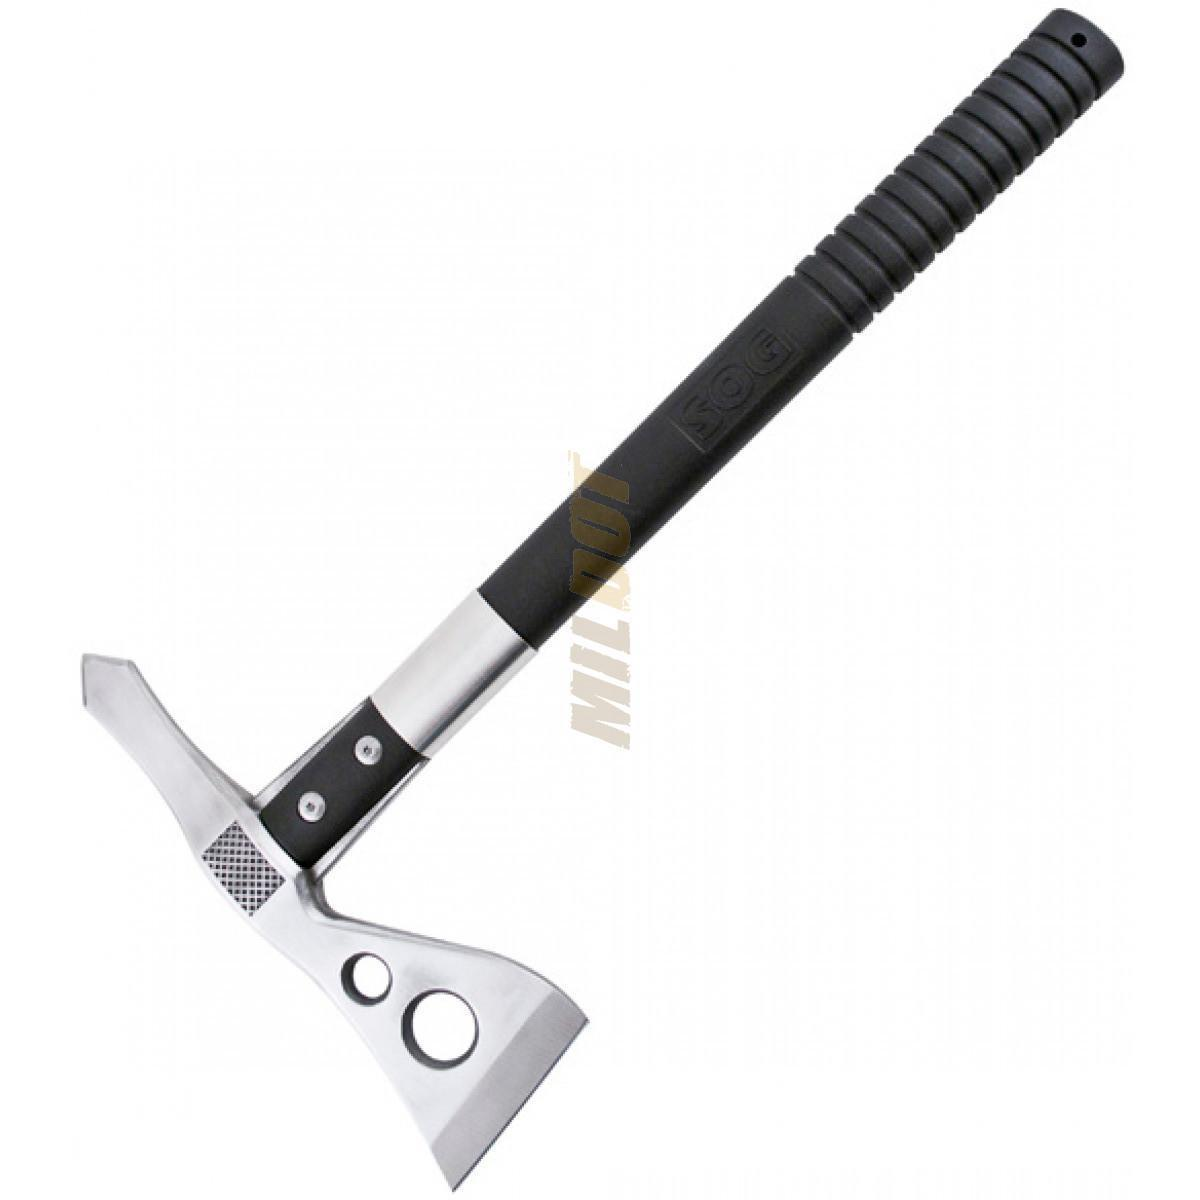machado: (84, 10, 1123, 1189)
